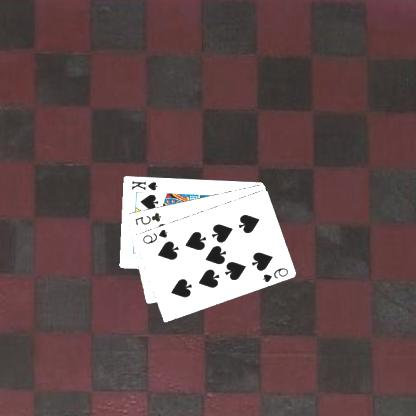5C: (134, 210, 164, 226)
9S: (141, 226, 171, 245), (262, 265, 291, 283)
KS: (130, 178, 160, 191)
